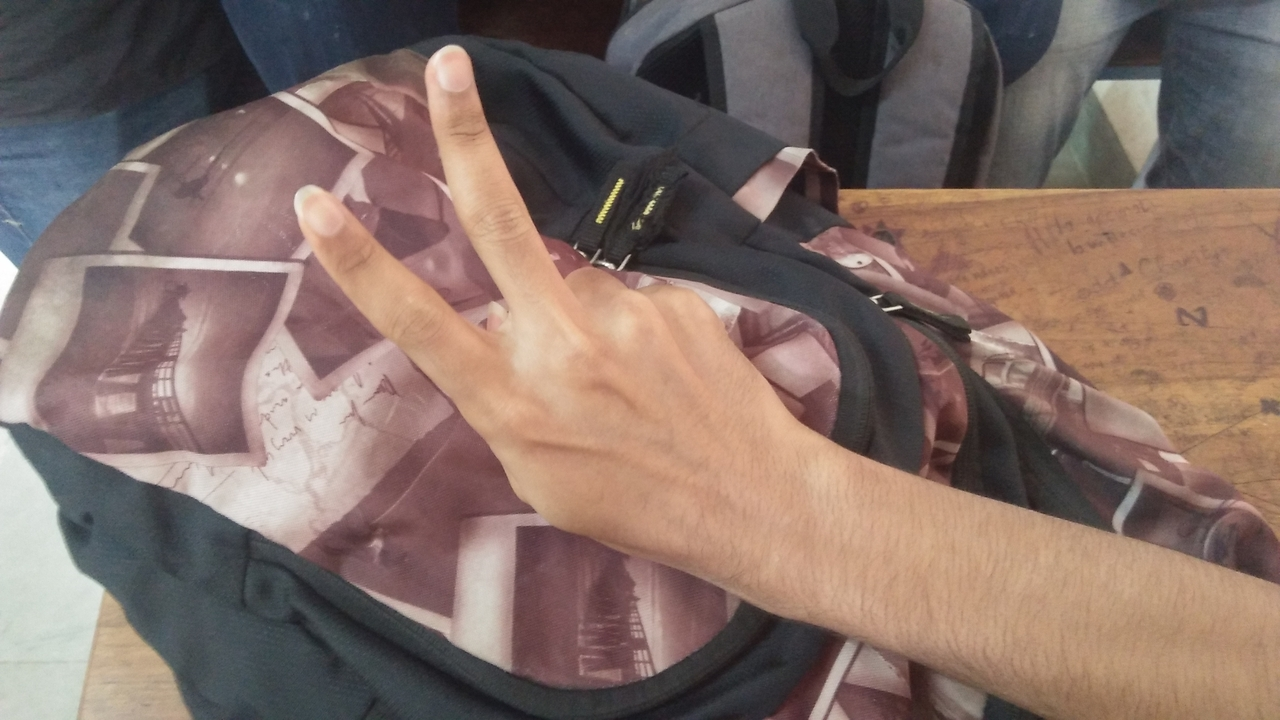fingertip: (276, 176, 354, 242), (414, 40, 478, 98)
